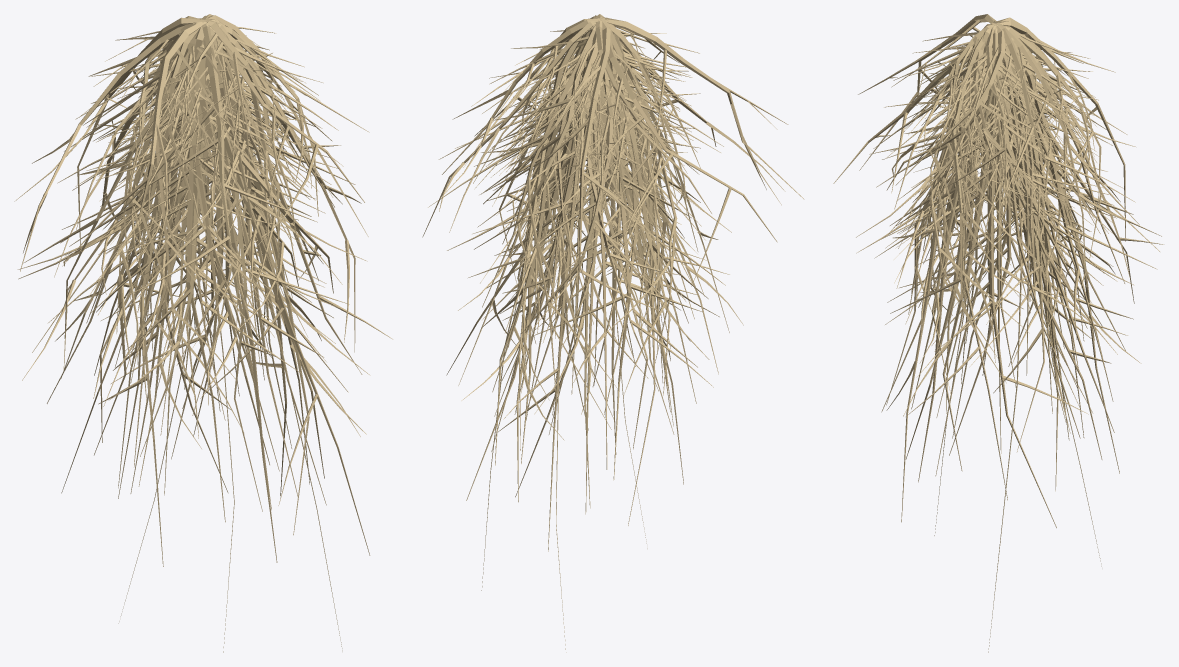
Rendered from roots_wheat.glb.
The picture shows the model from 3 angles, left to right: view 1: azimuth 30°, elevation 25°; view 2: azimuth 150°, elevation 25°; view 3: azimuth 270°, elevation 25°; orthographic projection. The views are drawn at different scales.
Parts seen in each view (by area): view 1: mesh_roots_wheat_structure_02, mesh_roots_wheat_structure_01, mesh_roots_wheat_structure_00, mesh_roots_wheat_structure_05, mesh_roots_wheat_structure_06, mesh_roots_wheat_structure_04, mesh_roots_wheat_structure_03, mesh_roots_wheat_structure_07; view 2: mesh_roots_wheat_structure_02, mesh_roots_wheat_structure_00, mesh_roots_wheat_structure_01, mesh_roots_wheat_structure_03, mesh_roots_wheat_structure_04, mesh_roots_wheat_structure_05, mesh_roots_wheat_structure_07, mesh_roots_wheat_structure_06; view 3: mesh_roots_wheat_structure_00, mesh_roots_wheat_structure_05, mesh_roots_wheat_structure_07, mesh_roots_wheat_structure_03, mesh_roots_wheat_structure_02, mesh_roots_wheat_structure_06, mesh_roots_wheat_structure_01, mesh_roots_wheat_structure_04.
Part boxes in pixels (box(x1,y1,x2,y2)): mesh_roots_wheat_structure_02: box(17, 14, 369, 511); mesh_roots_wheat_structure_01: box(20, 22, 393, 623); mesh_roots_wheat_structure_00: box(55, 15, 342, 510); mesh_roots_wheat_structure_05: box(65, 15, 368, 566); mesh_roots_wheat_structure_06: box(56, 22, 370, 651); mesh_roots_wheat_structure_04: box(14, 17, 315, 652); mesh_roots_wheat_structure_03: box(47, 19, 355, 498); mesh_roots_wheat_structure_07: box(95, 18, 370, 522); mesh_roots_wheat_structure_02: box(440, 14, 804, 469); mesh_roots_wheat_structure_00: box(422, 16, 729, 525); mesh_roots_wheat_structure_01: box(481, 24, 785, 652); mesh_roots_wheat_structure_03: box(438, 15, 719, 551); mesh_roots_wheat_structure_04: box(497, 18, 725, 548); mesh_roots_wheat_structure_05: box(471, 17, 702, 484); mesh_roots_wheat_structure_07: box(461, 14, 729, 500); mesh_roots_wheat_structure_06: box(428, 45, 697, 590); mesh_roots_wheat_structure_00: box(856, 21, 1139, 455); mesh_roots_wheat_structure_05: box(887, 24, 1117, 500); mesh_roots_wheat_structure_07: box(873, 23, 1133, 527); mesh_roots_wheat_structure_03: box(886, 20, 1141, 473); mesh_roots_wheat_structure_02: box(858, 14, 1163, 413); mesh_roots_wheat_structure_06: box(869, 24, 1110, 652); mesh_roots_wheat_structure_01: box(833, 25, 1157, 566); mesh_roots_wheat_structure_04: box(877, 17, 1125, 535).
Bounding box in the file's own units: 1.98 × 3.46 × 1.81.
